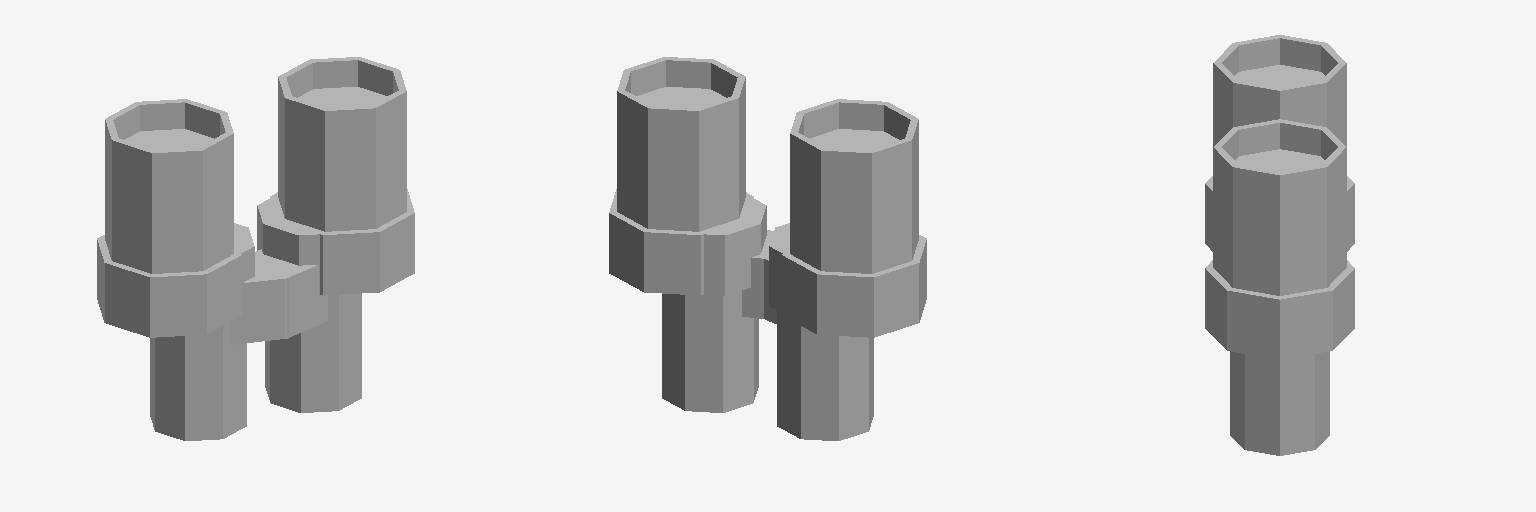
File: binoculars.obj
3 renders of one model, left to right at view 1: azimuth 30°, elevation 25°; view 2: azimuth 150°, elevation 25°; view 3: azimuth 270°, elevation 25°, orthographic.
Parts seen in each view (by area): view 1: Binocular_Right_Up, Binocular_Left_Up, LeftConnector, Binocular_Left_Down, RightConnector, Binocular_Right_Down, LeftCon, RightCon; view 2: Binocular_Right_Up, Binocular_Left_Up, LeftConnector, Binocular_Right_Down, RightConnector, Binocular_Left_Down, RightCon; view 3: Binocular_Right_Up, Binocular_Left_Up, RightConnector, Binocular_Right_Down, LeftConnector.
Part boxes in pixels (x1,y1,x2,y2): Binocular_Right_Up: (278, 57, 406, 231); Binocular_Left_Up: (105, 99, 233, 273); LeftConnector: (97, 223, 254, 337); Binocular_Left_Down: (150, 322, 246, 440); RightConnector: (257, 189, 414, 295); Binocular_Right_Down: (265, 294, 361, 412); LeftCon: (230, 252, 288, 344); RightCon: (255, 249, 327, 338); Binocular_Right_Up: (617, 57, 745, 231); Binocular_Left_Up: (790, 99, 918, 273); LeftConnector: (769, 223, 926, 337); Binocular_Right_Down: (662, 291, 758, 412); RightConnector: (609, 189, 766, 295); Binocular_Left_Down: (777, 311, 873, 440); RightCon: (742, 230, 773, 318); Binocular_Right_Up: (1213, 119, 1346, 295); Binocular_Left_Up: (1213, 35, 1346, 146); RightConnector: (1205, 260, 1354, 359); Binocular_Right_Down: (1230, 351, 1329, 455); LeftConnector: (1205, 176, 1354, 251).
Bounding box in the file's own units: 84 × 80 × 36.